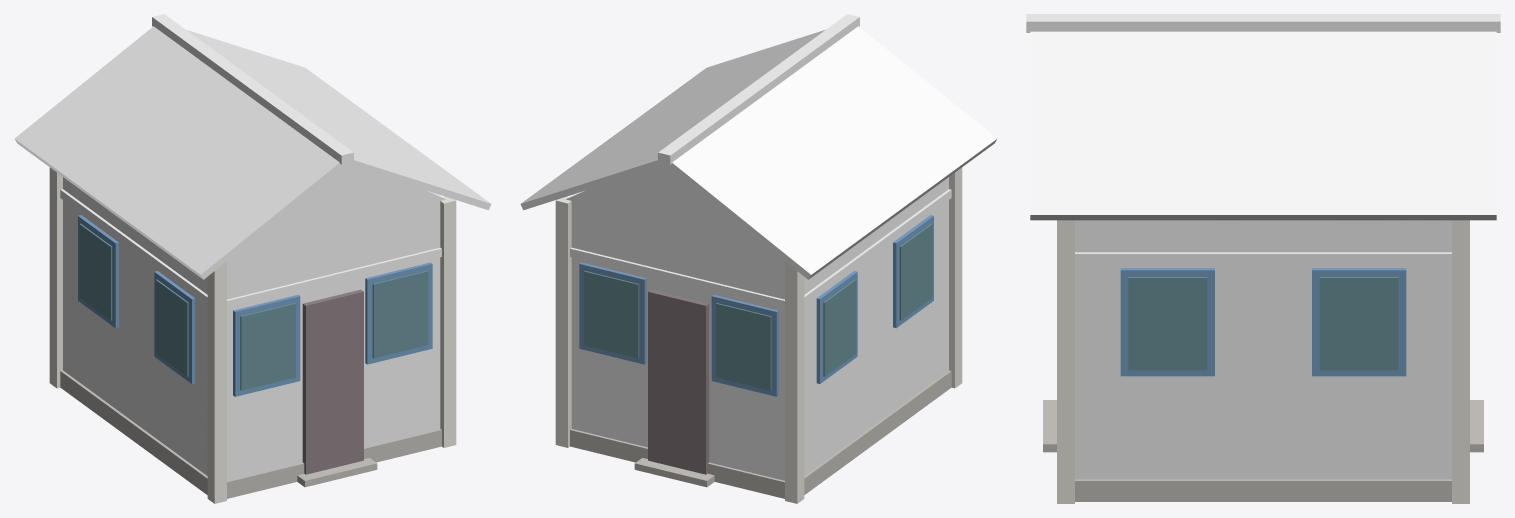
File: colonial.glb
The picture shows the model from 3 angles, left to right: view 1: azimuth 30°, elevation 25°; view 2: azimuth 150°, elevation 25°; view 3: azimuth 270°, elevation 25°; orthographic projection. The views are drawn at different scales.
Visible parts, largest first — view 1: Colonial; view 2: Colonial; view 3: Colonial.
Boxes of the visible parts, bbox=[...] form: Colonial: bbox=[14, 14, 491, 503]; Colonial: bbox=[520, 14, 997, 503]; Colonial: bbox=[1026, 14, 1500, 503].
Bounding box in the file's own units: 3.3 × 3.57 × 3.72.
